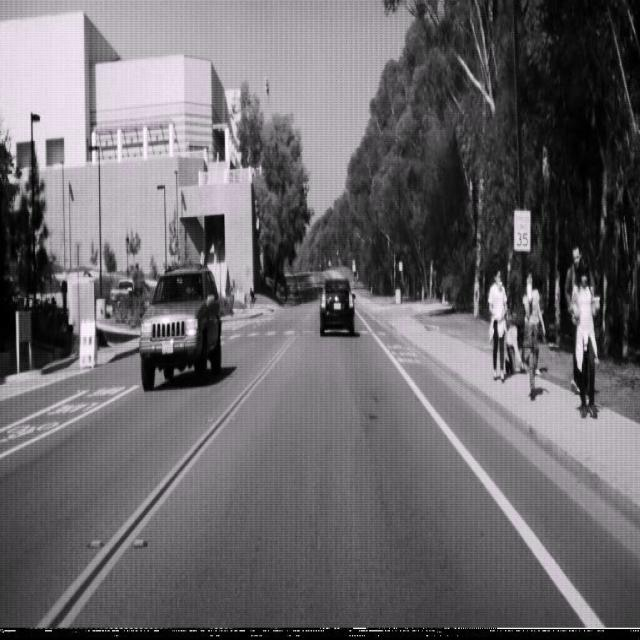speedLimit35: (513, 208, 531, 252)
